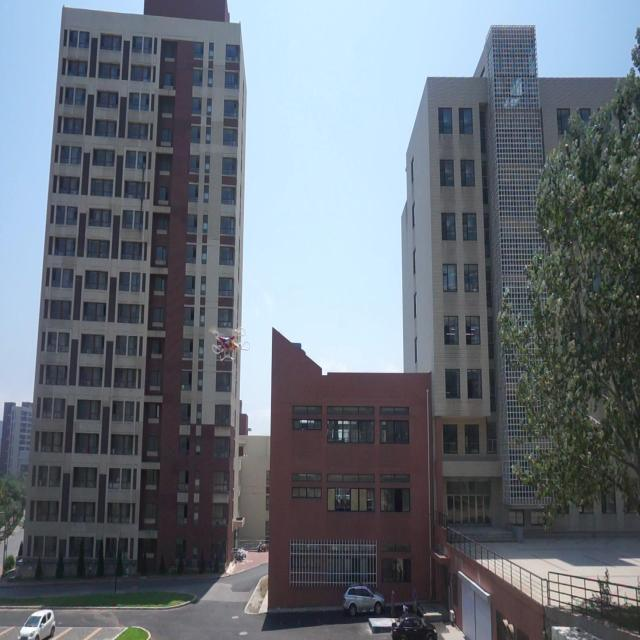drone: (209, 317, 250, 369)
